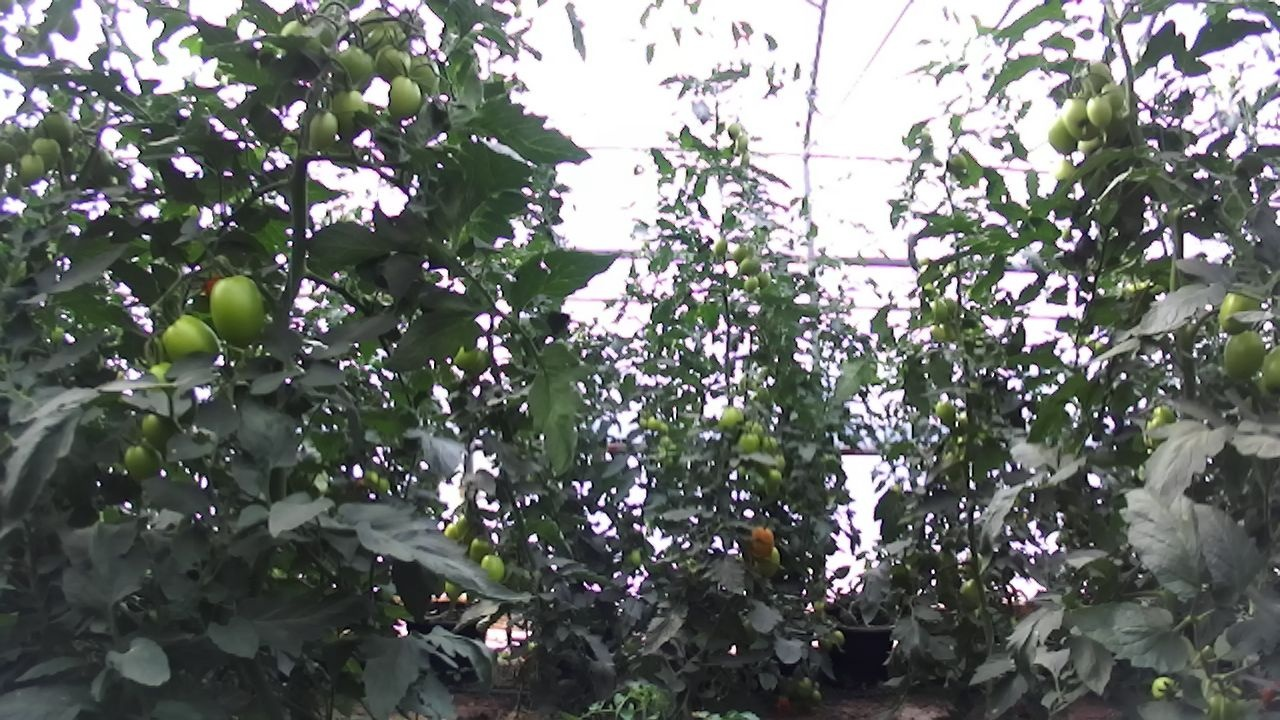tomato: (199, 261, 277, 360), (151, 307, 233, 380), (1208, 273, 1272, 340), (1215, 319, 1275, 388), (323, 82, 375, 148), (116, 436, 176, 491), (325, 39, 381, 97), (133, 400, 185, 459), (383, 69, 431, 125), (301, 104, 349, 159), (367, 37, 419, 87), (1054, 91, 1100, 145), (405, 46, 448, 103), (36, 105, 83, 156), (1043, 112, 1088, 164), (1074, 56, 1119, 101), (27, 131, 68, 180), (925, 393, 968, 438), (13, 148, 52, 191), (743, 519, 781, 562), (449, 336, 486, 377), (475, 546, 512, 587), (1082, 92, 1119, 133), (753, 541, 787, 584), (1144, 668, 1182, 706), (462, 530, 499, 567), (1096, 77, 1132, 115), (1047, 153, 1083, 187), (954, 574, 985, 612), (1148, 398, 1181, 431), (716, 402, 746, 433), (760, 461, 788, 493), (926, 295, 954, 325), (733, 428, 761, 457), (792, 674, 819, 703), (624, 544, 649, 572), (926, 320, 952, 346), (737, 253, 762, 280), (758, 432, 782, 459), (709, 234, 733, 260), (739, 271, 762, 297), (724, 119, 746, 143), (732, 130, 753, 155), (753, 268, 775, 291), (730, 242, 749, 266), (642, 413, 665, 432)
